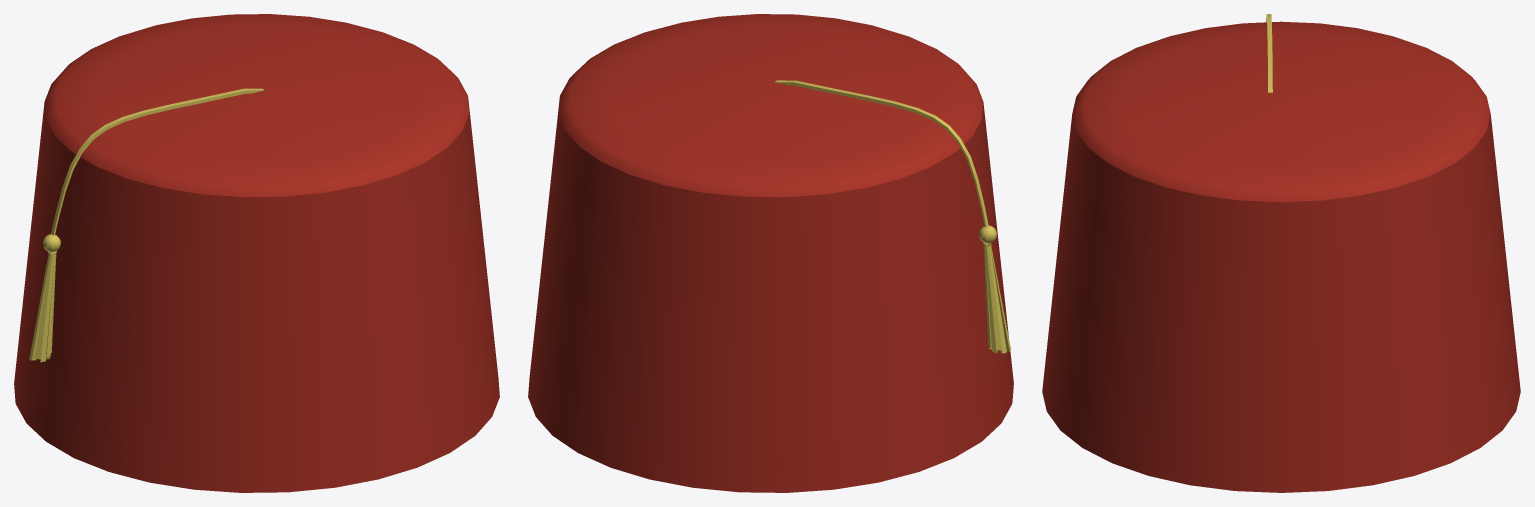
Rendered from Fez.fbx.
The picture shows the model from 3 angles, left to right: view 1: azimuth 30°, elevation 25°; view 2: azimuth 150°, elevation 25°; view 3: azimuth 270°, elevation 25°; orthographic projection.
Visible parts, largest first — view 1: Fez; view 2: Fez; view 3: Fez.
Part boxes in pixels (box(x1,y1,x2,y2)): Fez: box(14, 14, 499, 492); Fez: box(528, 14, 1013, 492); Fez: box(1042, 14, 1520, 492).
Size of the model in its own units: 98.07 by 65.85 by 93.11.
